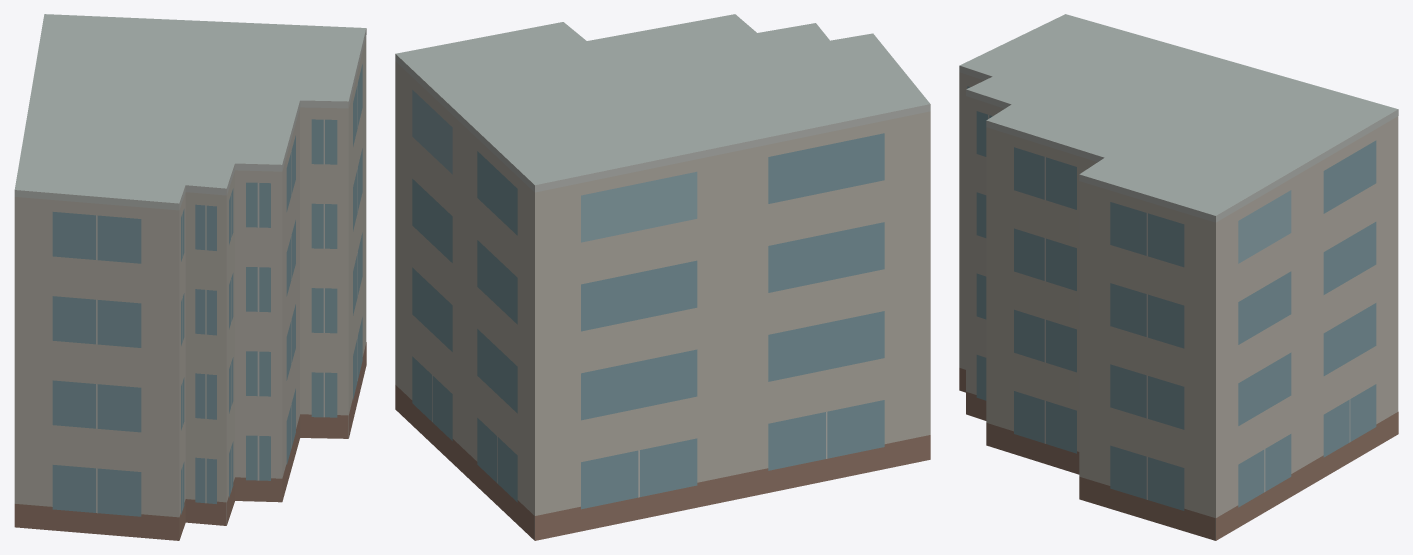
Rendered from survey-upis-32864881.glb.
3 views of the same model, side by side, from view 1: azimuth 30°, elevation 25°; view 2: azimuth 150°, elevation 25°; view 3: azimuth 270°, elevation 25° (orthographic). The views are drawn at different scales.
Parts seen in each view (by area): view 1: survey-upis-32864881.tmp; view 2: survey-upis-32864881.tmp; view 3: survey-upis-32864881.tmp.
Part boxes in pixels (x1,y1,x2,y2): survey-upis-32864881.tmp: (14,14,366,540); survey-upis-32864881.tmp: (395,14,930,540); survey-upis-32864881.tmp: (959,14,1398,540).
Bounding box in the file's own units: 15.87 × 11.9 × 14.58.
